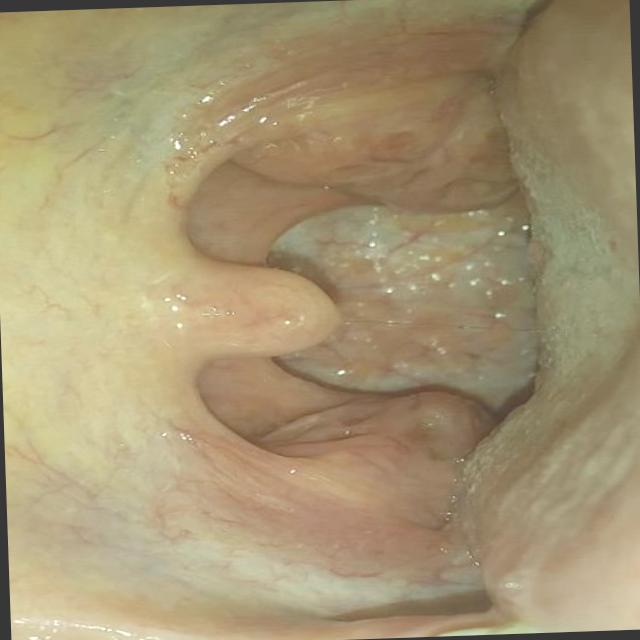Non Pharyngitis: (232, 72, 524, 245), (245, 345, 500, 518)
